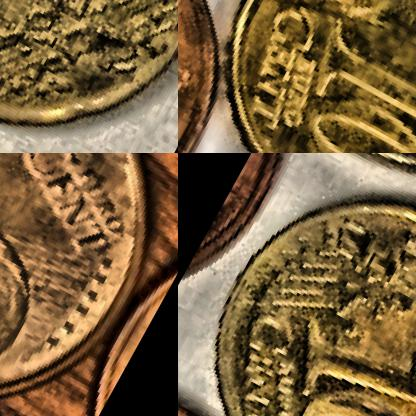coin: (178, 153, 415, 415), (0, 153, 177, 415), (178, 0, 415, 152), (0, 0, 177, 152)
